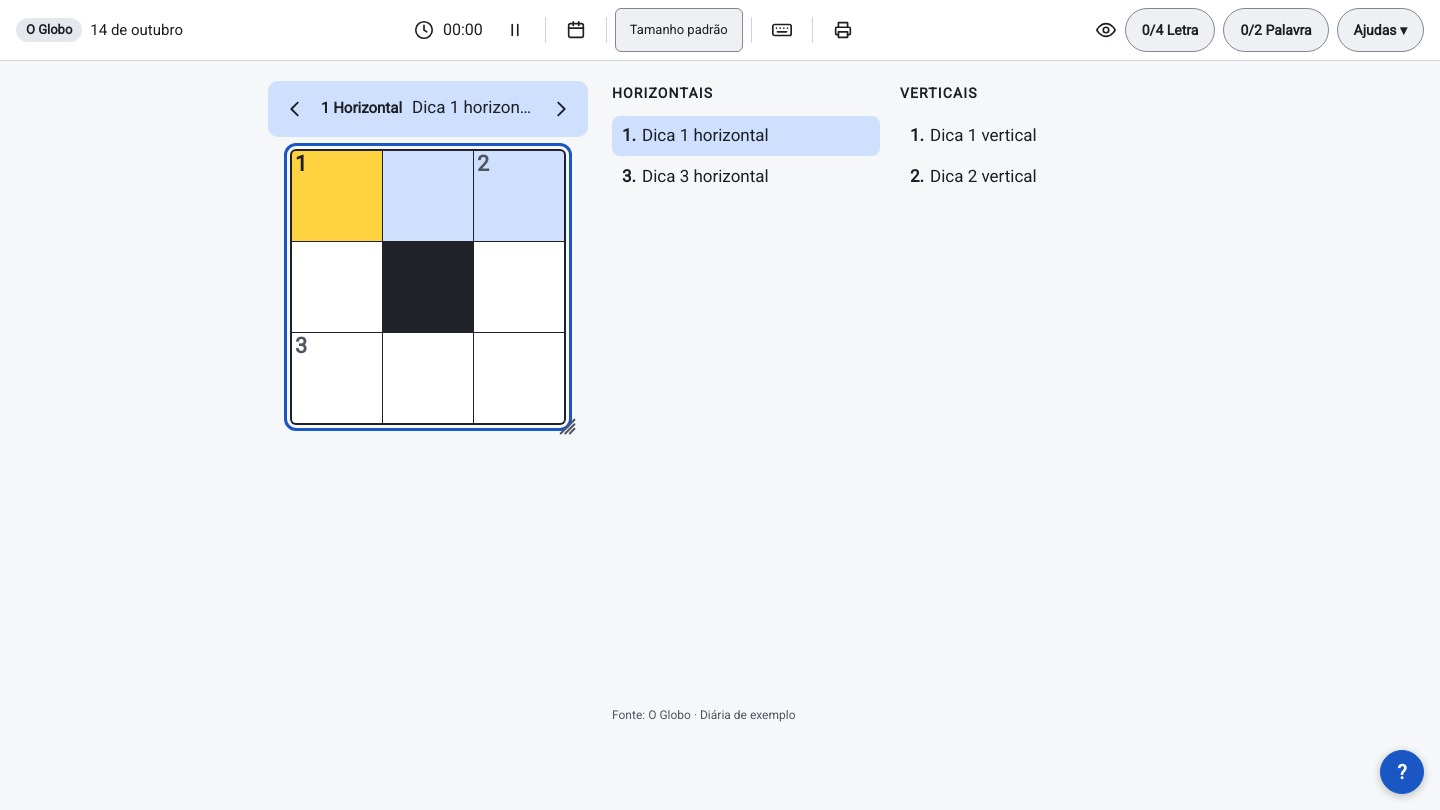
Test case: GamePage › tamanho do tabuleiro (feature 011) › uma escolha guardada vale ao abrir; na pausa a alça some
Check: the table is shown, box [290, 149, 566, 425]
What coordinates should you click on to do the following:
click the button named "Pausar"
I would click on:
 (515, 30)
Its box is [493, 8, 537, 52].
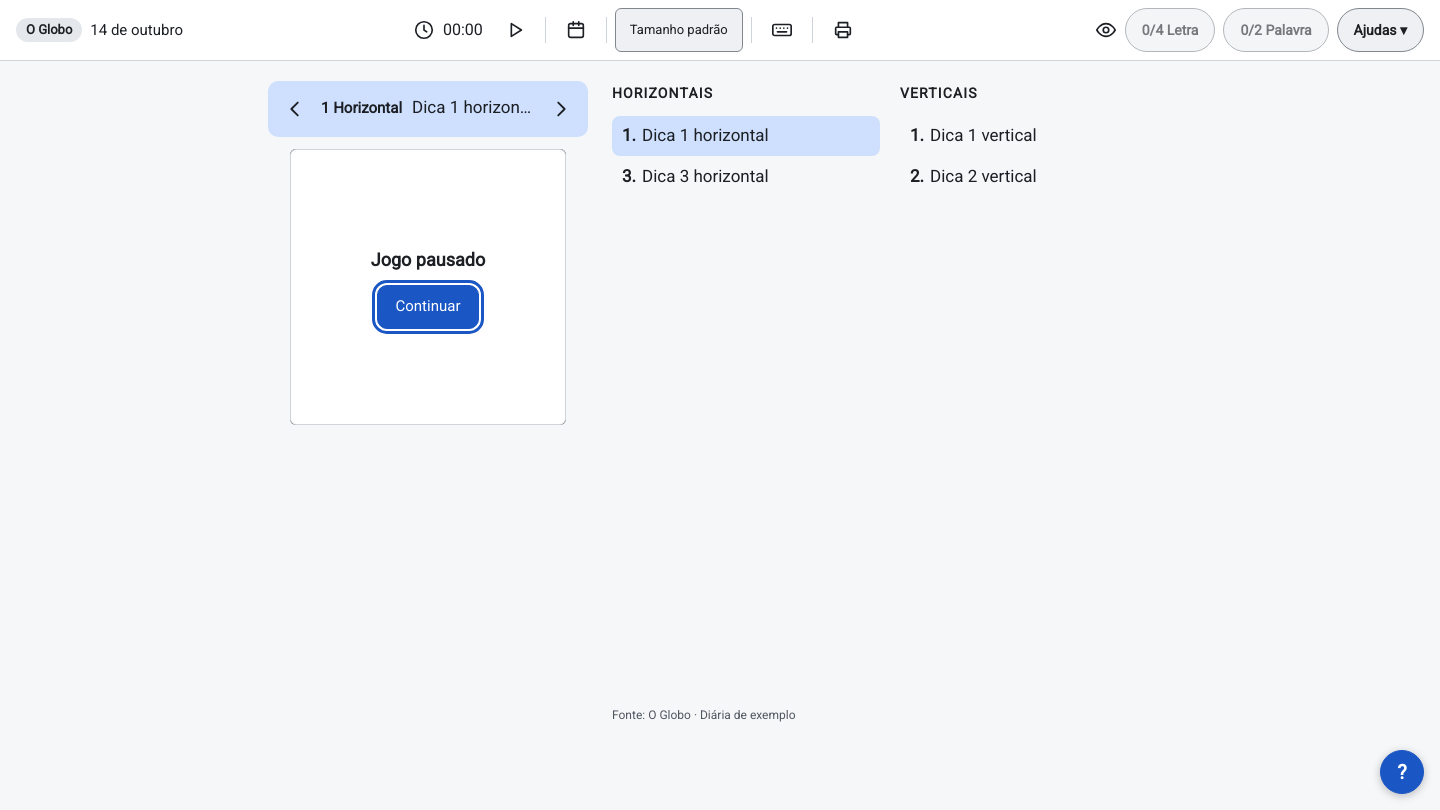
Check: the slider is gone
